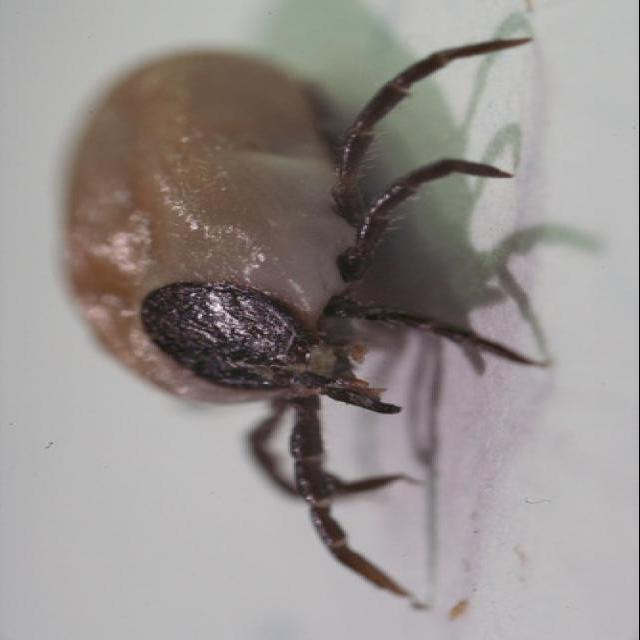Ixodes Ricinus-F-Fed: (54, 35, 552, 611)
